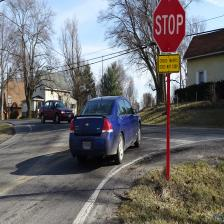Stop-sign: (151, 0, 187, 54)
